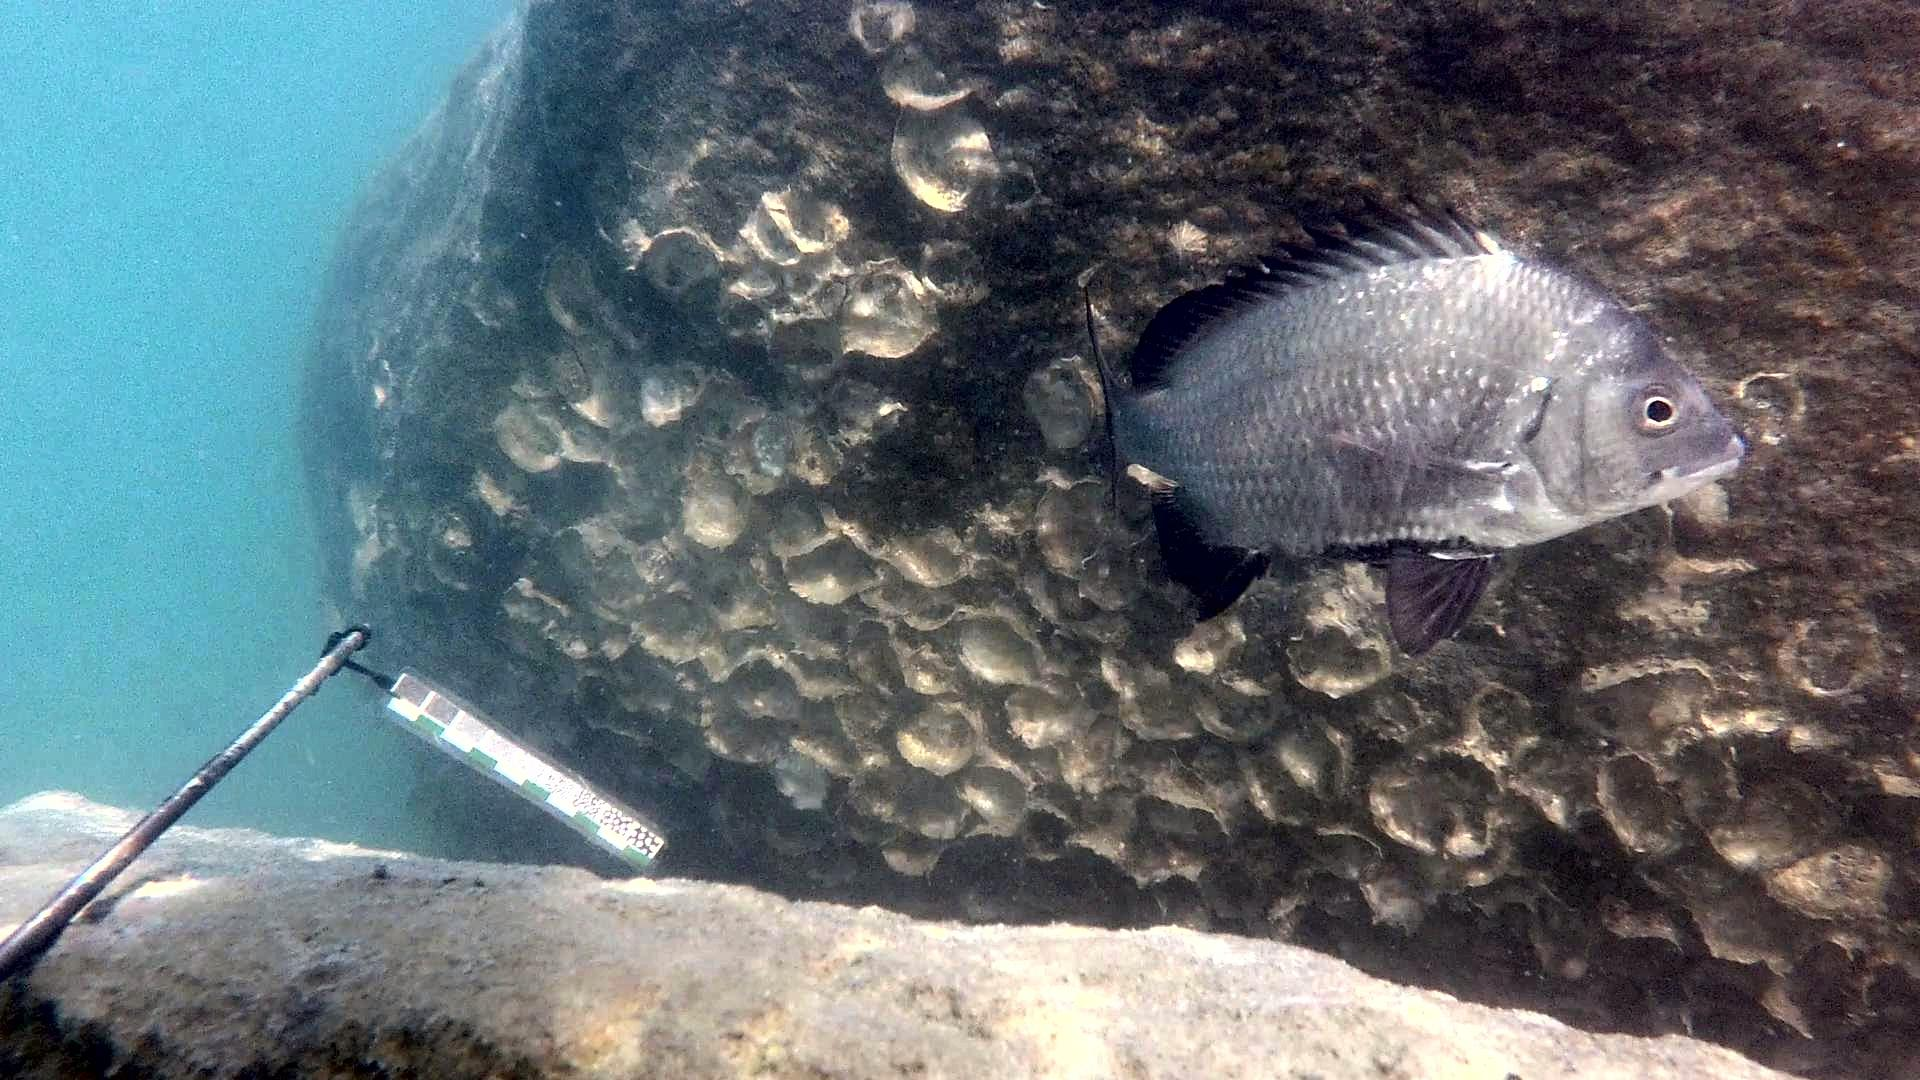acanthopagrus palmaris: (1080, 186, 1751, 663)
